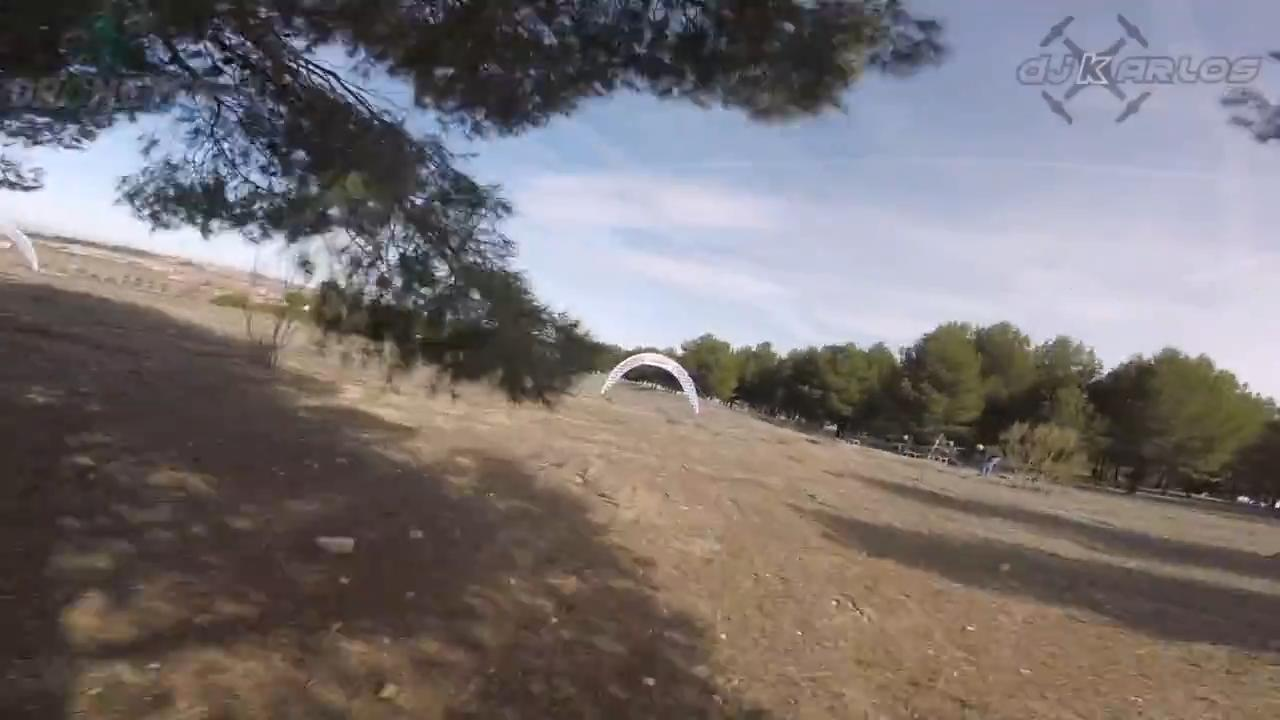gate: (603, 349, 700, 421)
